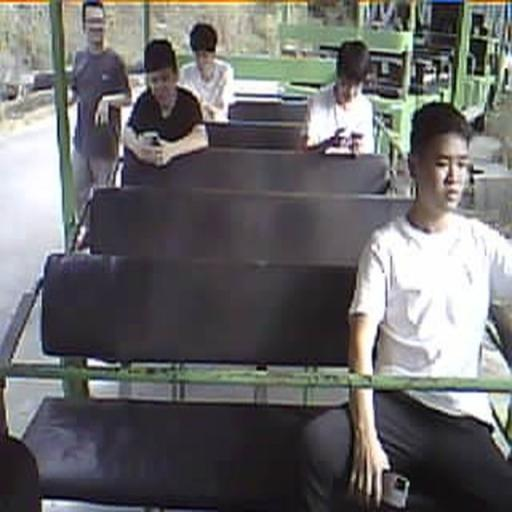persona: (301, 100, 512, 512), (122, 37, 208, 187), (304, 39, 377, 155), (178, 21, 235, 122)
